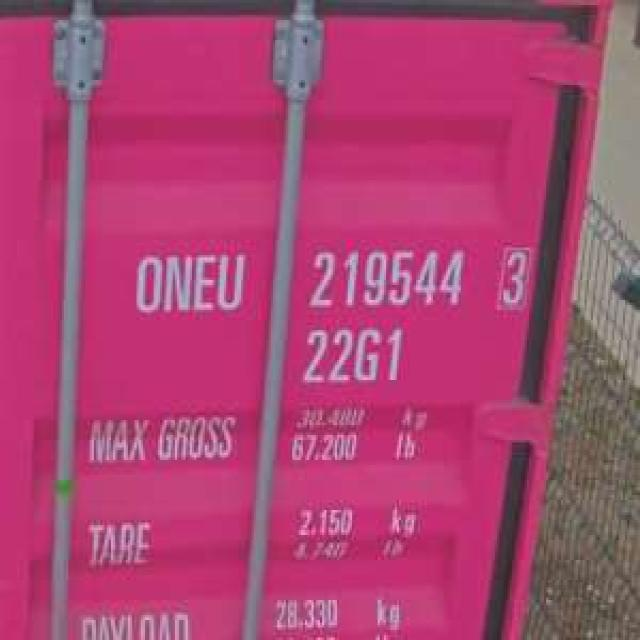dv: (490, 234, 536, 319)
owner: (123, 243, 253, 321)
serial: (303, 242, 471, 315)
size: (295, 319, 416, 392)
